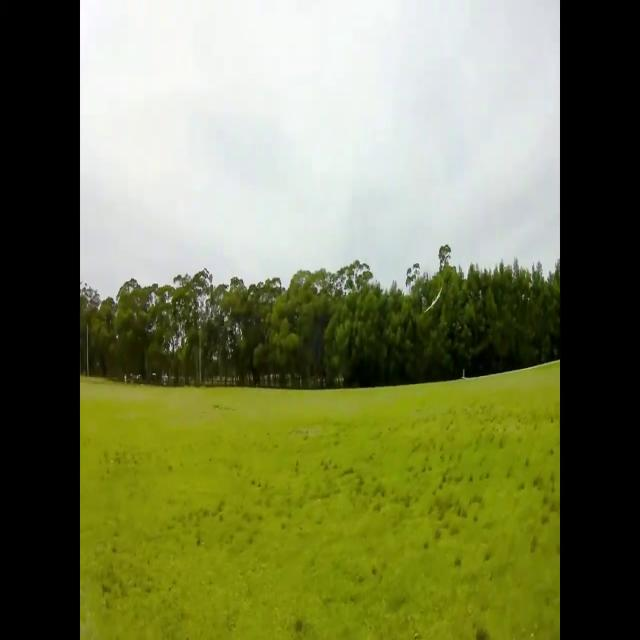iha: (426, 290, 442, 311)
